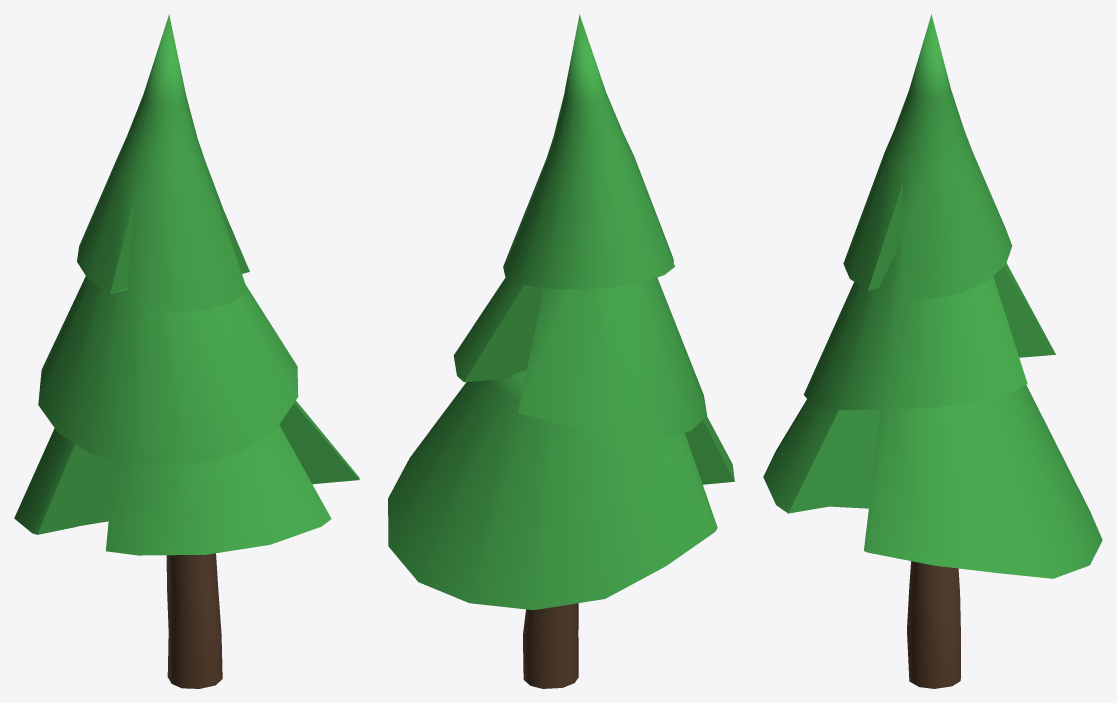
Rendered from WF_PCGTree.12.glb.
The picture shows the model from 3 angles, left to right: view 1: azimuth 30°, elevation 25°; view 2: azimuth 150°, elevation 25°; view 3: azimuth 270°, elevation 25°; orthographic projection. The views are drawn at different scales.
Parts seen in each view (by area): view 1: Tree.12; view 2: Tree.12; view 3: Tree.12.
Boxes of the visible parts, box(x1,y1,x2,y2) form: Tree.12: box(14, 14, 359, 688); Tree.12: box(388, 14, 734, 688); Tree.12: box(763, 14, 1102, 688).
Bounding box in the file's own units: 0.811 × 1.7 × 0.8038.
